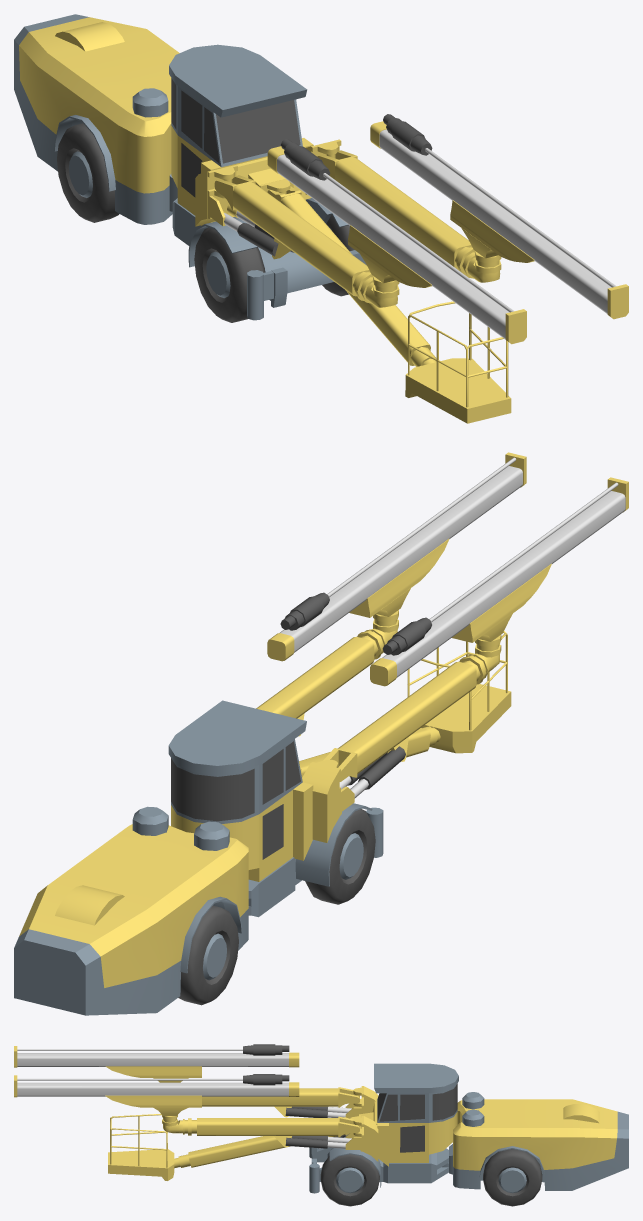
Rendered from Boomer_3k_v.fbx.
3 views of the same model, one above another, from view 1: azimuth 30°, elevation 25°; view 2: azimuth 150°, elevation 25°; view 3: azimuth 270°, elevation 25° (orthographic). The views are drawn at different scales.
Parts seen in each view (by area): view 1: Boomer; view 2: Boomer; view 3: Boomer.
Boxes of the visible parts, <box> form: Boomer: <box>14,14,628,423</box>; Boomer: <box>14,452,628,1015</box>; Boomer: <box>14,1044,628,1206</box>.
Bounding box in the file's own units: 239 × 353 × 1527.
